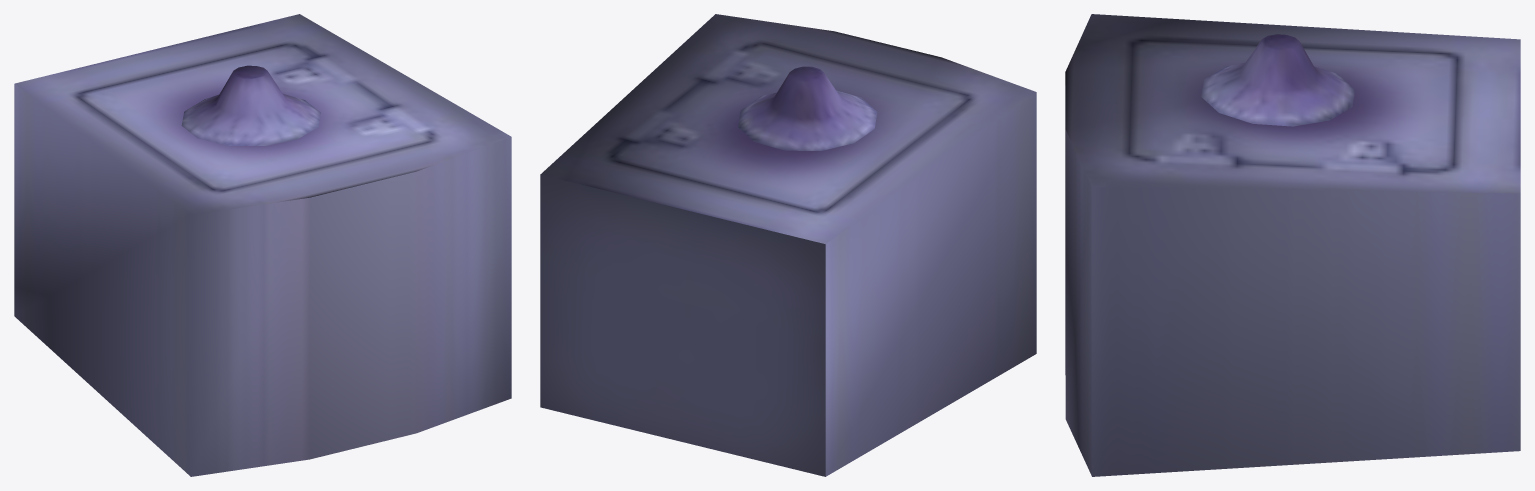
Rendered from safe.glb.
3 renders of one model, left to right at view 1: azimuth 30°, elevation 25°; view 2: azimuth 150°, elevation 25°; view 3: azimuth 270°, elevation 25°, orthographic. The views are drawn at different scales.
Parts seen in each view (by area): view 1: joint_scale_safe_drop; view 2: joint_scale_safe_drop; view 3: joint_scale_safe_drop.
Boxes of the visible parts, x1,y1,x2,y2 form: joint_scale_safe_drop: (14, 14, 511, 476); joint_scale_safe_drop: (540, 14, 1036, 476); joint_scale_safe_drop: (1065, 14, 1520, 476).
Bounding box in the file's own units: 0.75 × 0.6865 × 0.8326.
Materials: 3 (3 with a texture image).
